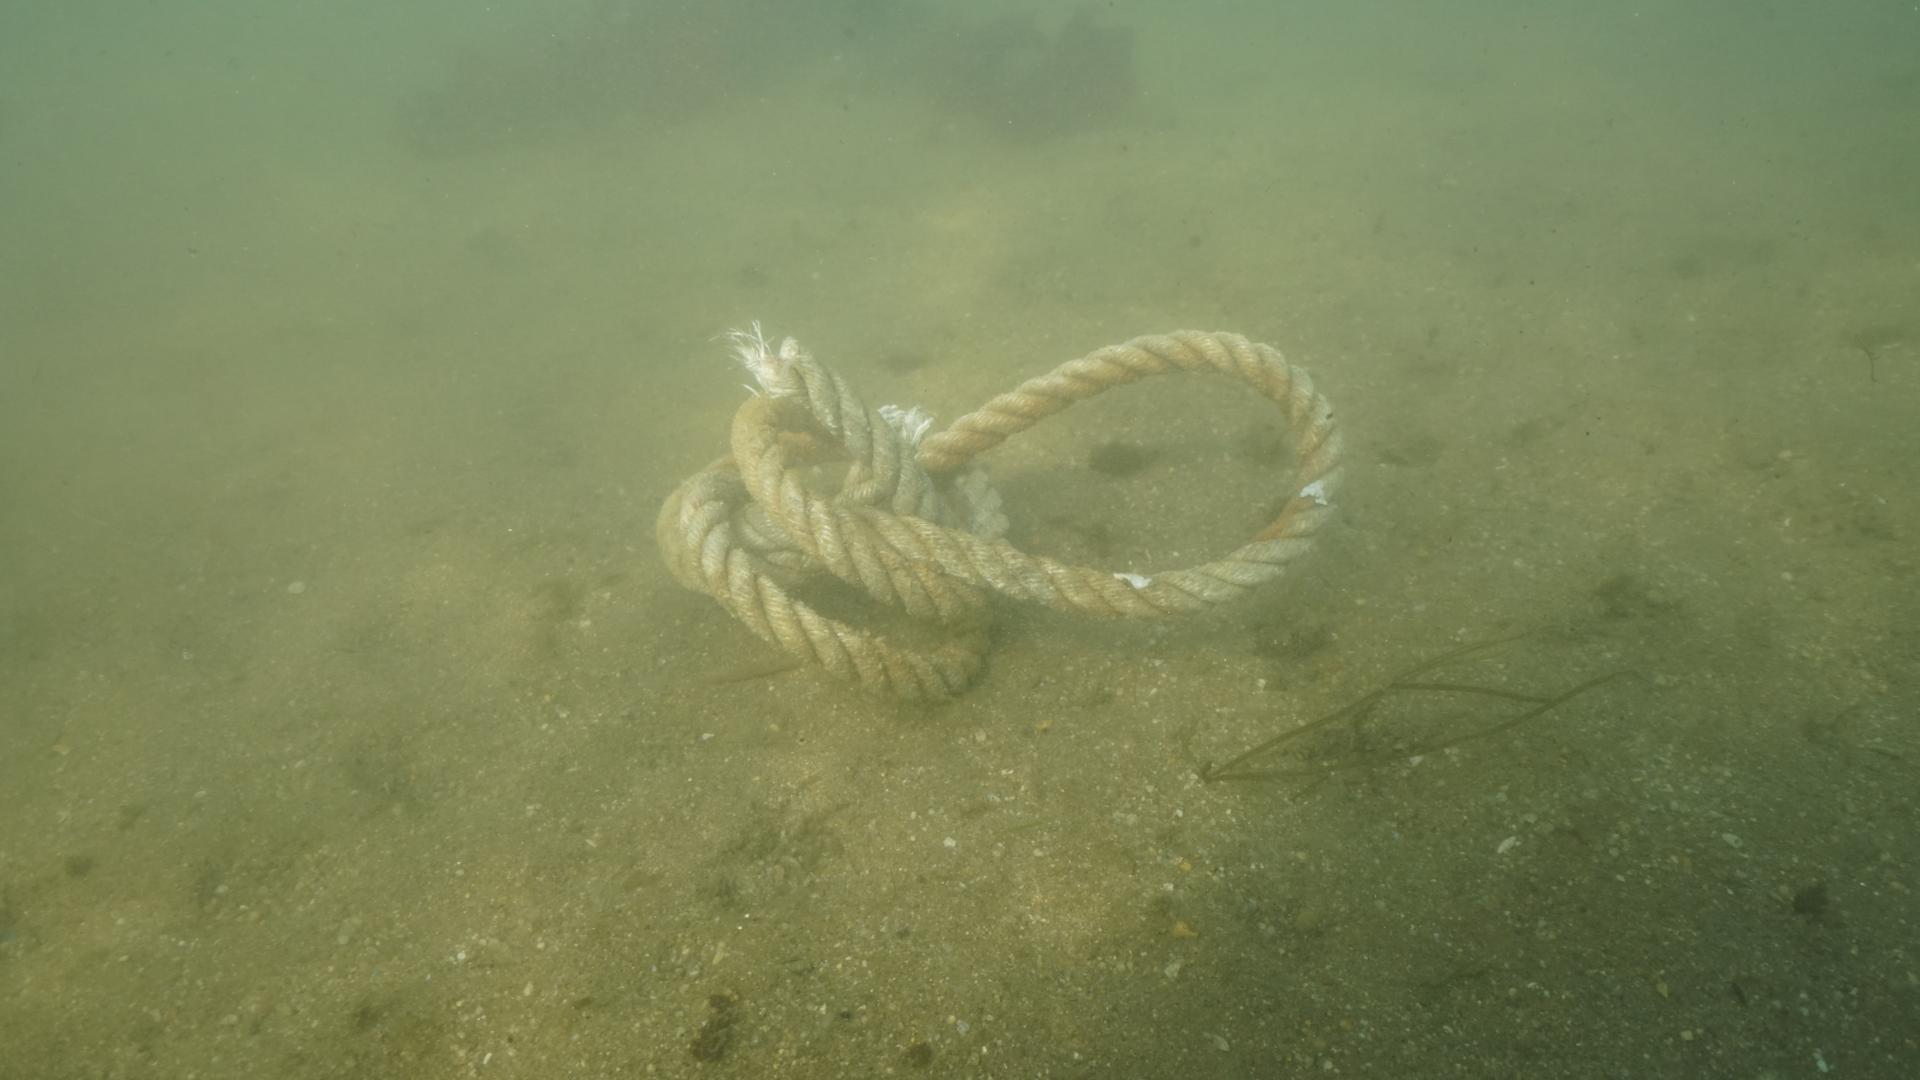bundle of ropes: (647, 323, 1353, 711)
